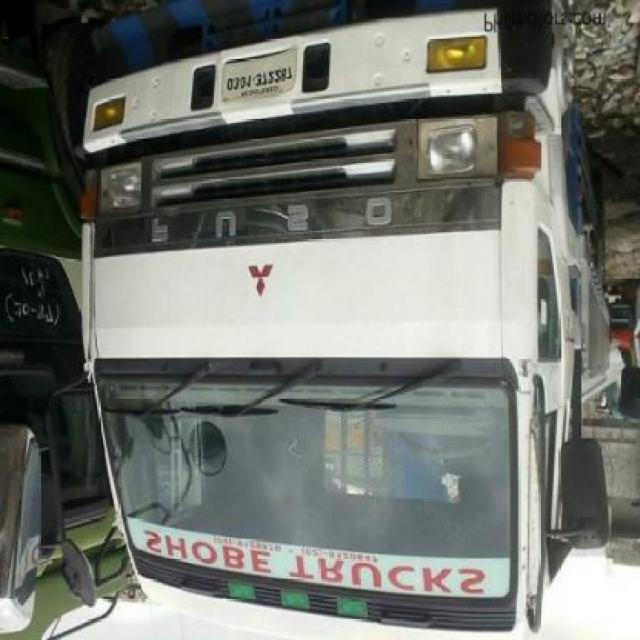truck: (80, 3, 617, 640)
